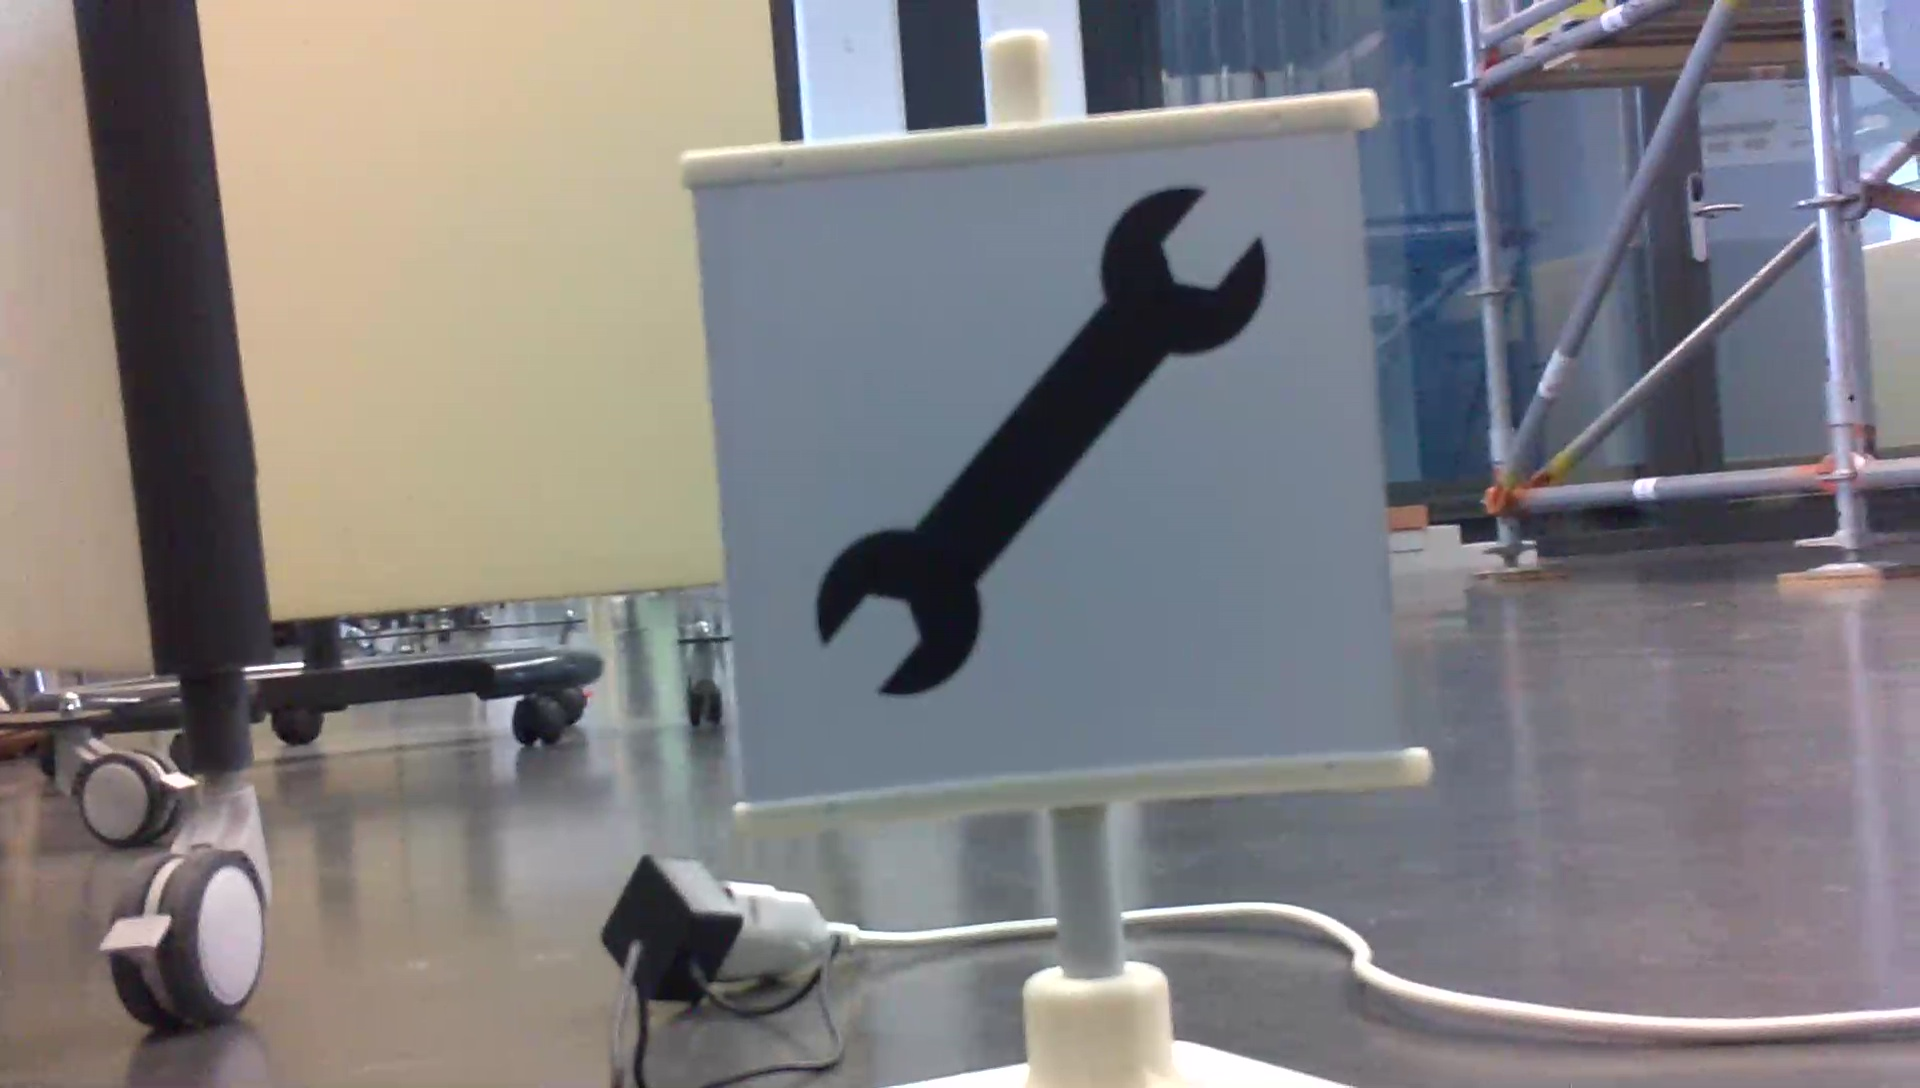wrench: (800, 175, 1295, 706)
